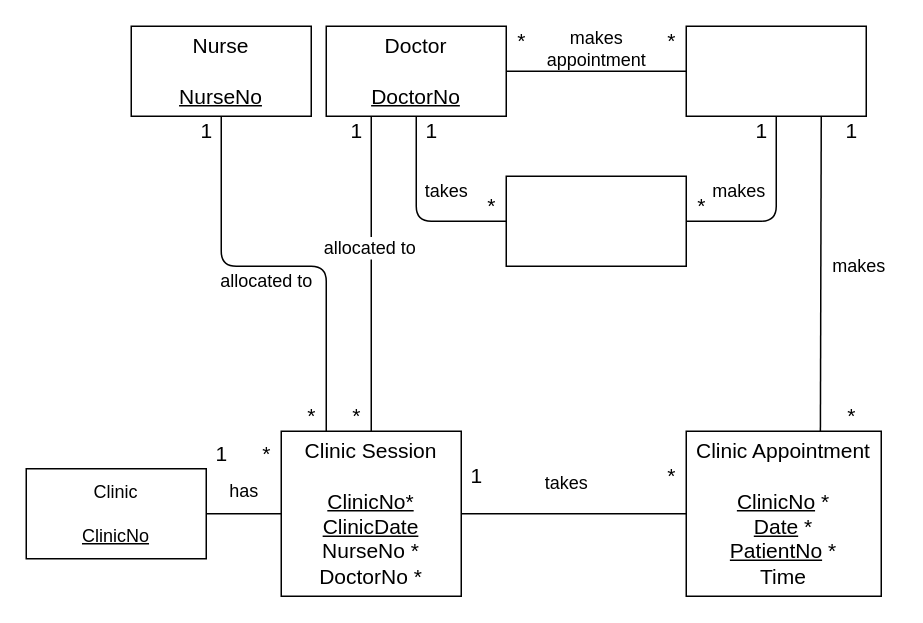
The diagram is 923 pixels wide and 623 high, and some of its shapes have lost their labels. The shapes that lost their labels are listed below. From the top down, each one's centre as x and y in pixels, then its label:
At point (775, 70): "Patient PatientNo".
At point (595, 220): "Appointment DoctorNo * PatientNo *".
